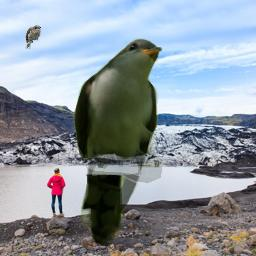Cuckoo: (73, 38, 163, 246), (25, 25, 41, 49)
